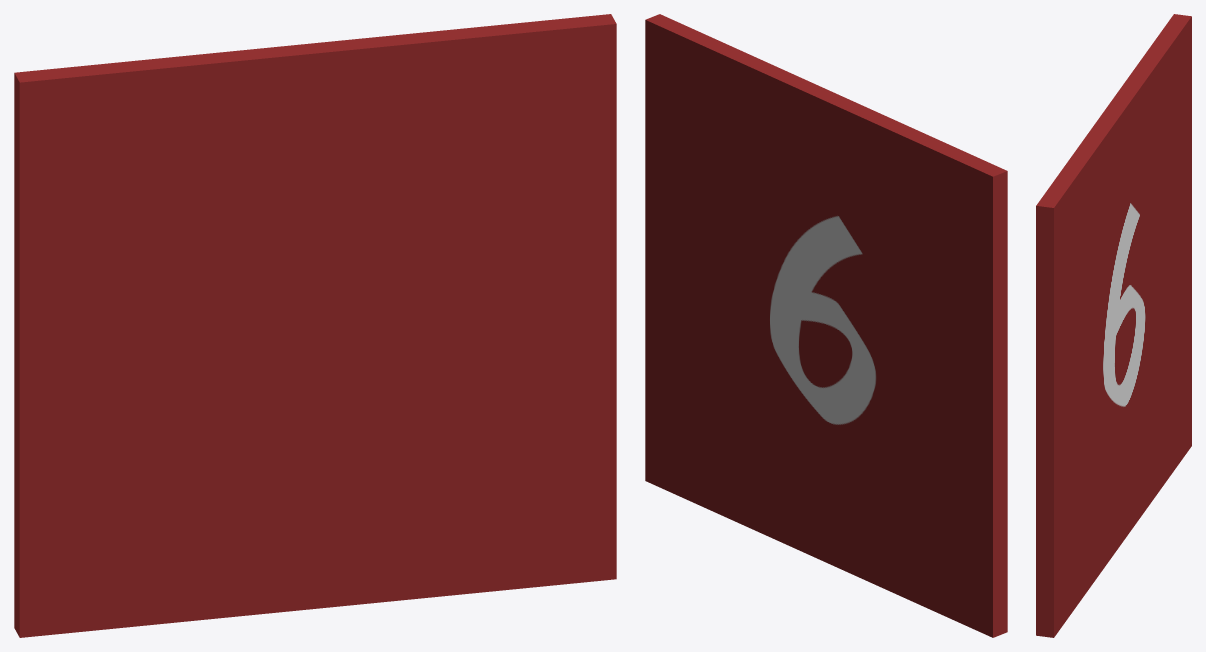
Rendered from flap05.glb.
The picture shows the model from 3 angles, left to right: view 1: azimuth 30°, elevation 25°; view 2: azimuth 150°, elevation 25°; view 3: azimuth 270°, elevation 25°; orthographic projection. The views are drawn at different scales.
Visible parts, largest first — view 1: flap.005; view 2: flap.005; view 3: flap.005.
Part boxes in pixels (x1,y1,x2,y2): flap.005: (14,14,616,637); flap.005: (645,14,1007,637); flap.005: (1036,14,1191,637).
Size of the model in its own units: 0.2421 by 0.25 by 0.0821.
1 material, 1 textured.
